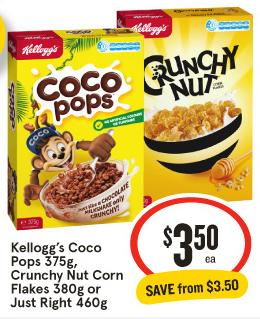description_block: (4, 236, 127, 314)
price_main: (136, 212, 242, 269)
product_image_block: (5, 8, 254, 210)
promo_text_block: (133, 272, 250, 304)
